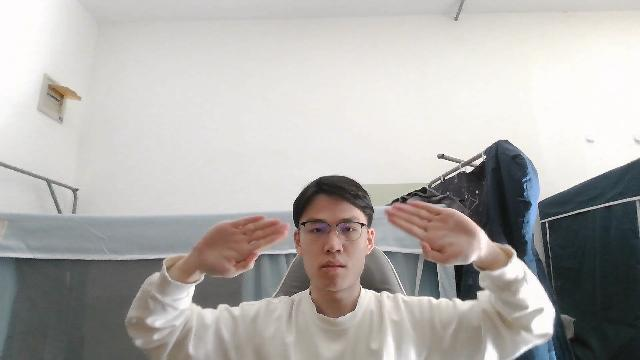five: (382, 196, 487, 267), (188, 213, 291, 281)
